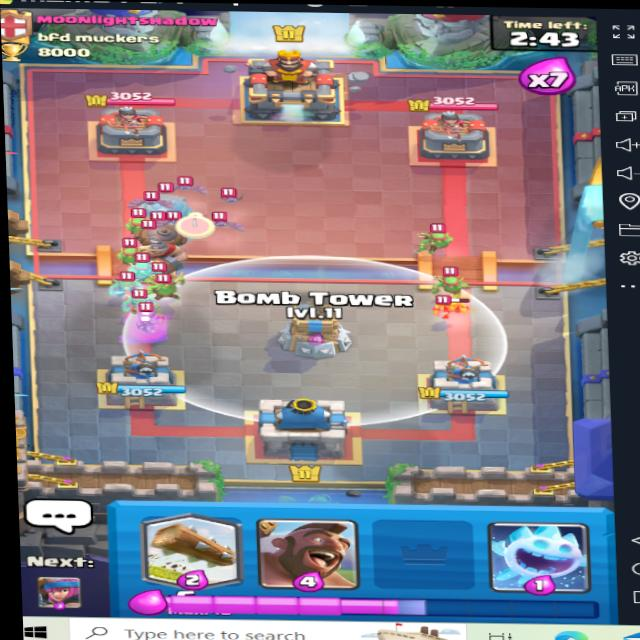bats: (205, 211, 243, 237), (123, 192, 170, 209), (175, 173, 211, 195), (216, 185, 254, 205)
goblin: (427, 292, 471, 316)
mighty-miner: (129, 219, 188, 277)
spear-goblin: (144, 272, 190, 298), (428, 264, 468, 293), (418, 228, 459, 256), (107, 242, 144, 262)
